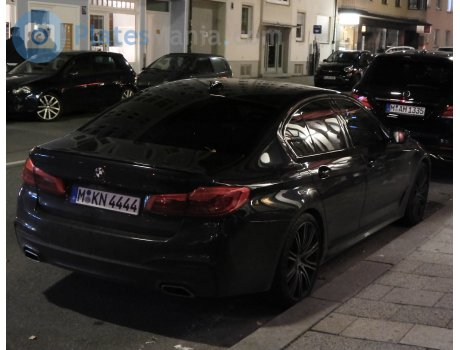License Plates: (79, 189, 135, 207)
